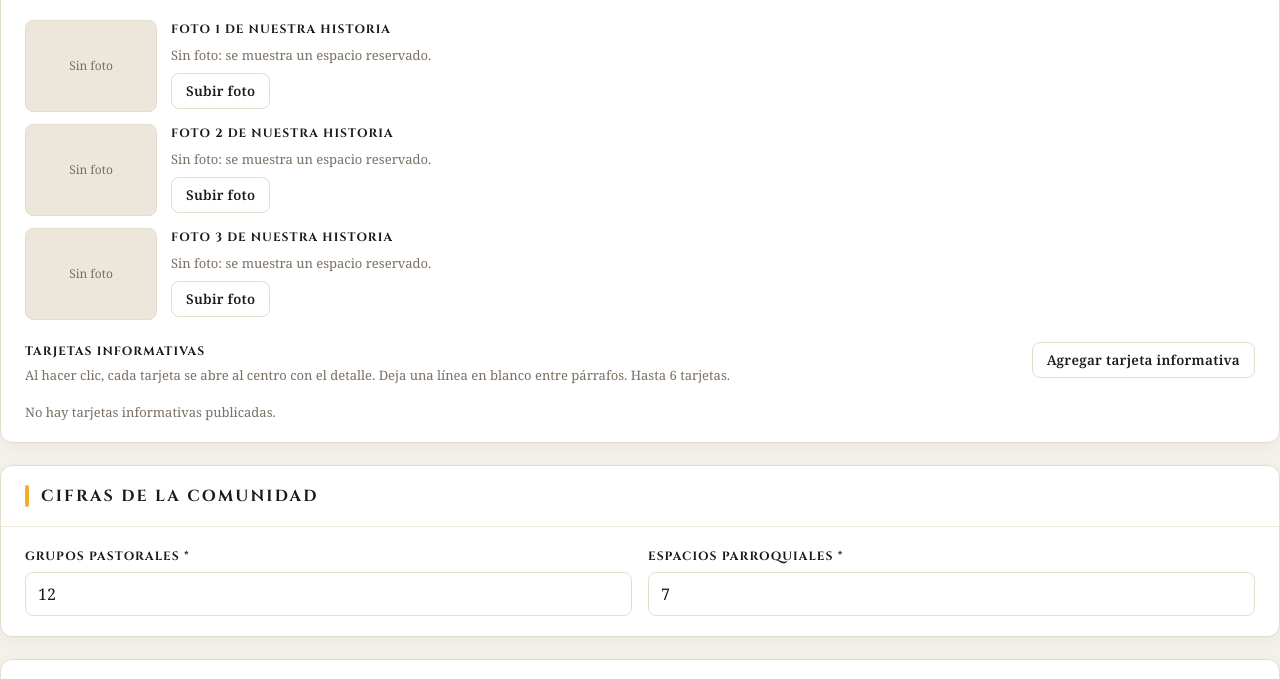
Test: ContenidoPublicoPage › elimina una tarjeta informativa de nuestra historia tras confirmar
(page scrolled)
Click the button "Agregar tarjeta informativa".
click(1143, 360)  # box [1032,342,1255,378]
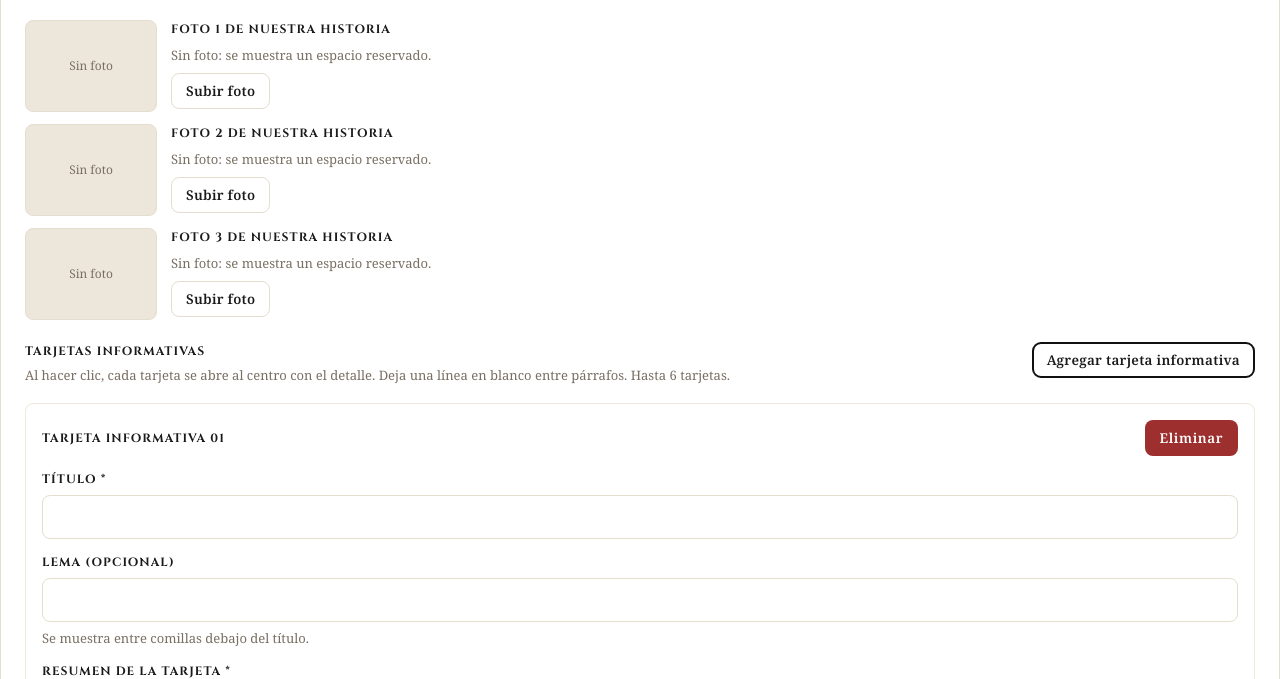
Type "Historia" into the field with id "historia-tarjeta-titulo-0".
click(640, 517); type("Historia")  # box [42,495,1238,539]
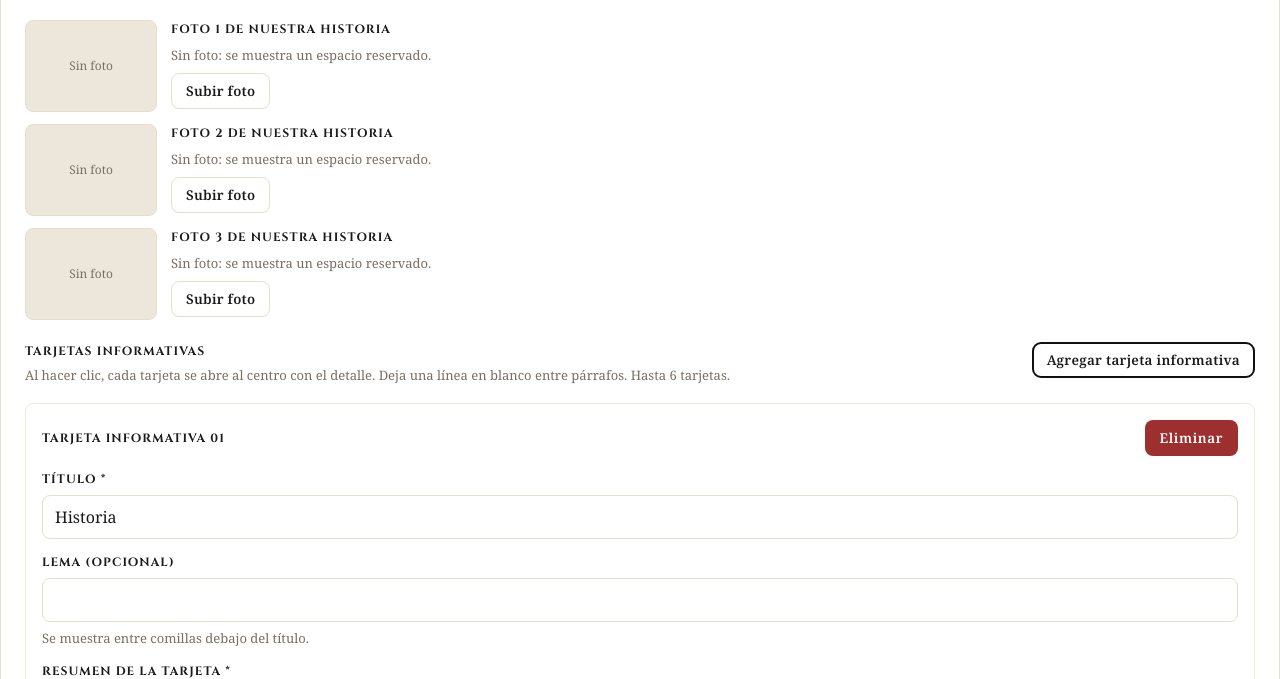
Click the button "Eliminar".
click(1191, 438)  # box [1145,420,1238,456]
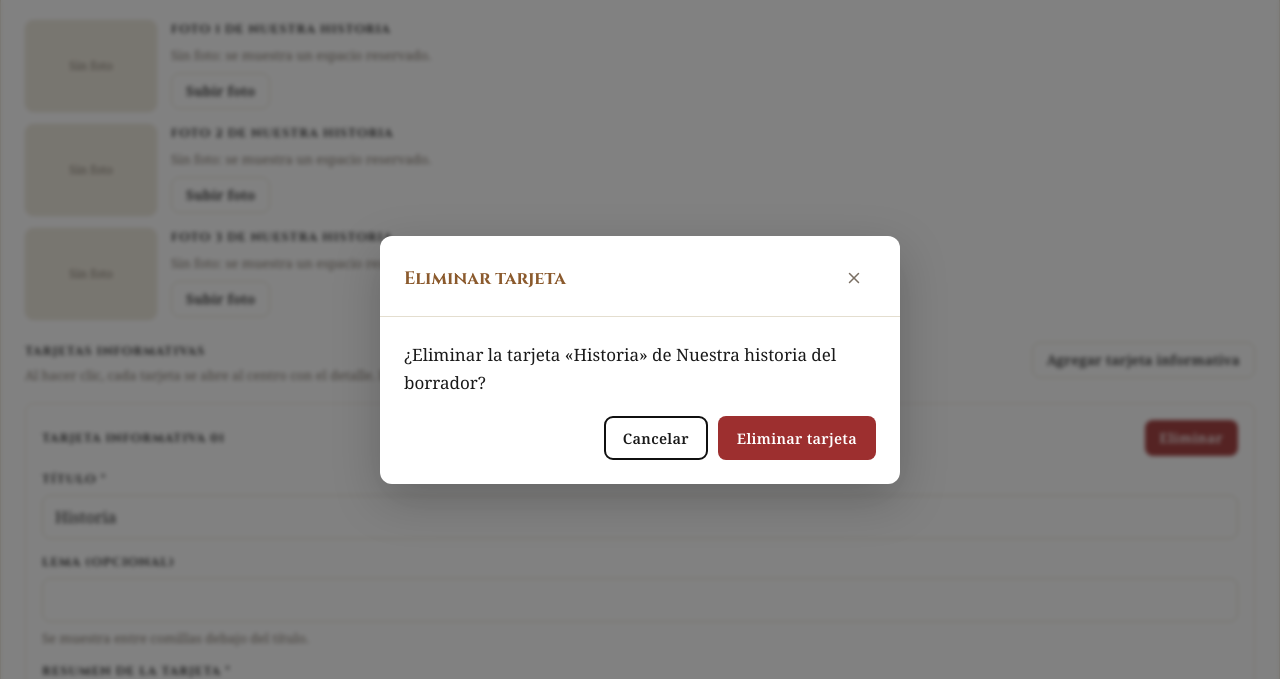
Expected: the text "¿Eliminar la tarjeta «Historia» de Nuestra historia del borrador?" is shown, [404,341,876,396]
Click the button "Eliminar tarjeta".
click(797, 438)  # box [718,416,876,460]
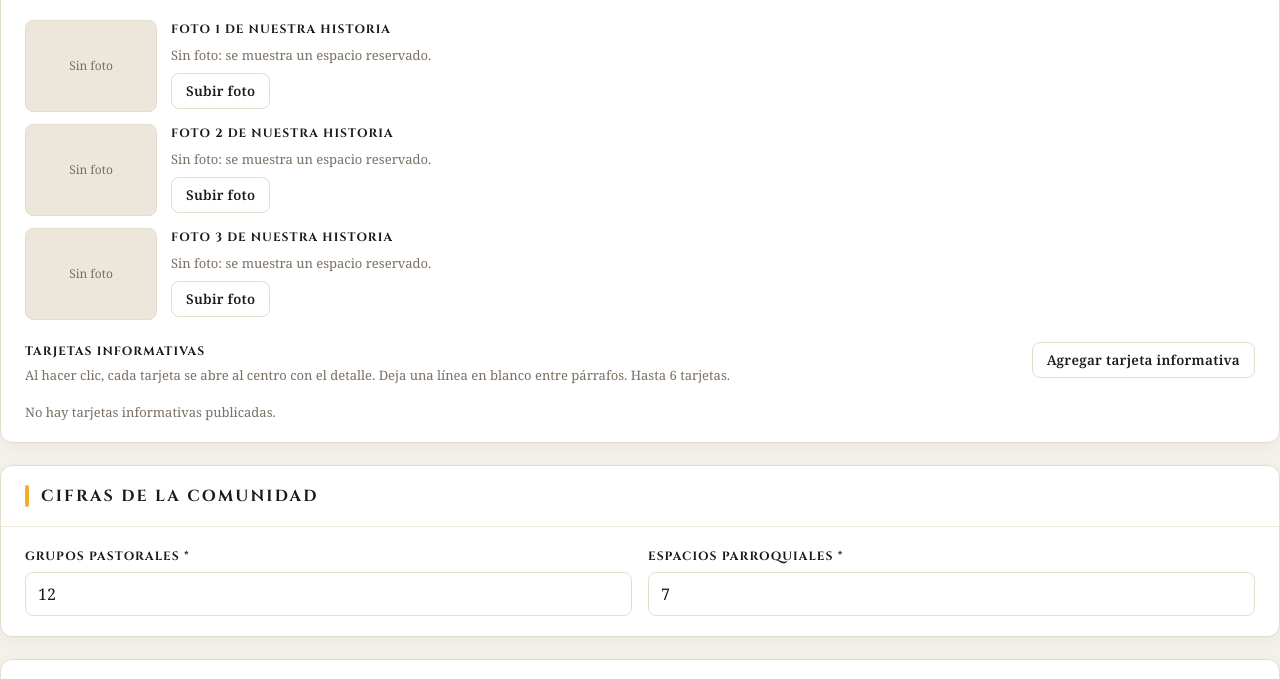
Expected: the text "No hay tarjetas informativas publicadas." is shown, [25,403,276,421]
